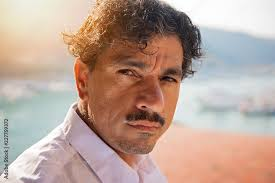s.white: (154, 81, 174, 130)
